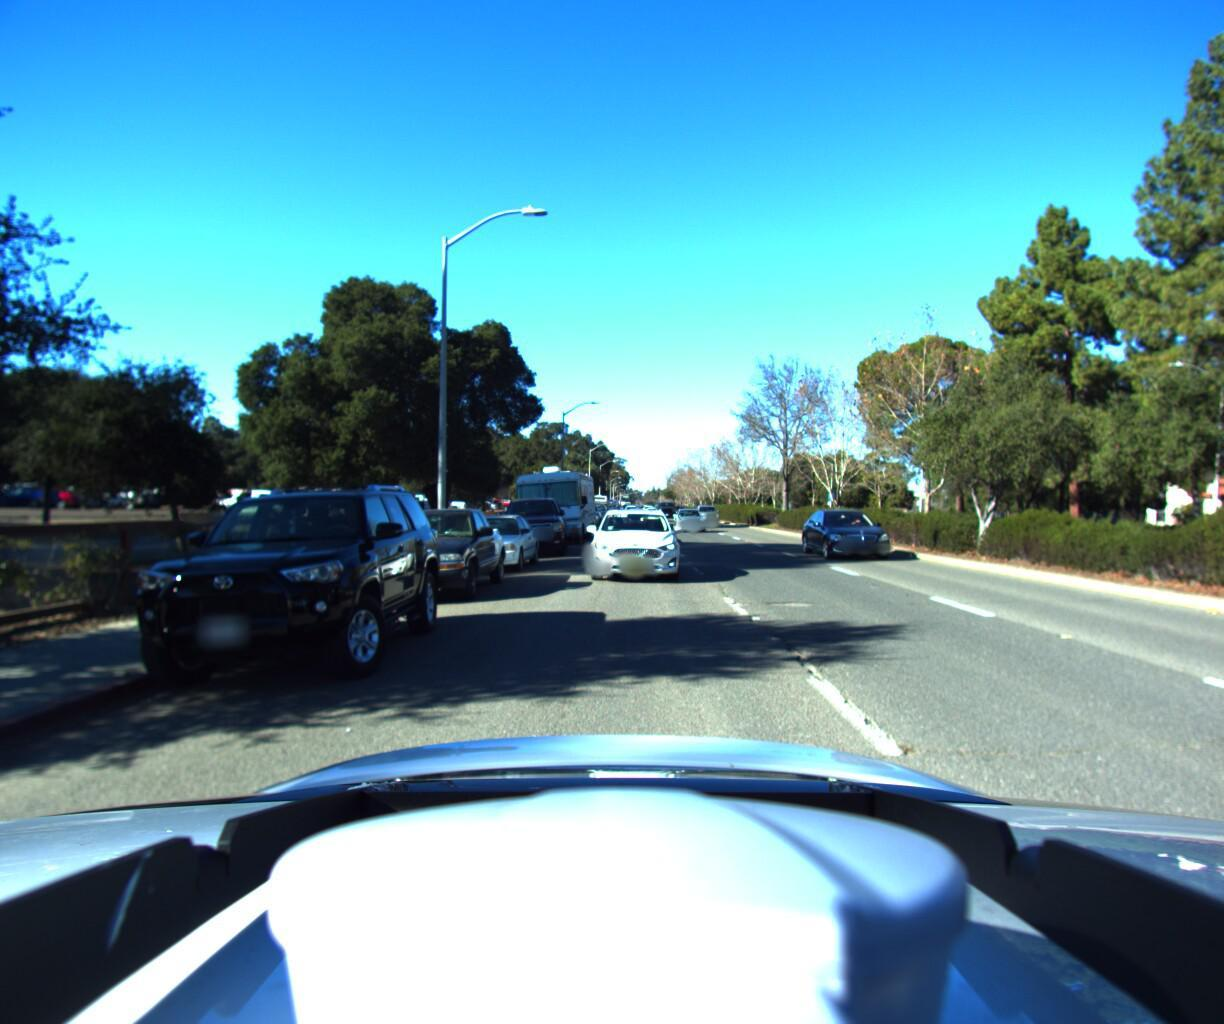car: (86, 466, 447, 710), (352, 504, 510, 607), (589, 506, 681, 588), (805, 503, 914, 564), (438, 513, 538, 577), (491, 493, 564, 559), (673, 502, 708, 534), (699, 505, 726, 525), (657, 507, 677, 522)
other_vehicle: (504, 462, 598, 545)
